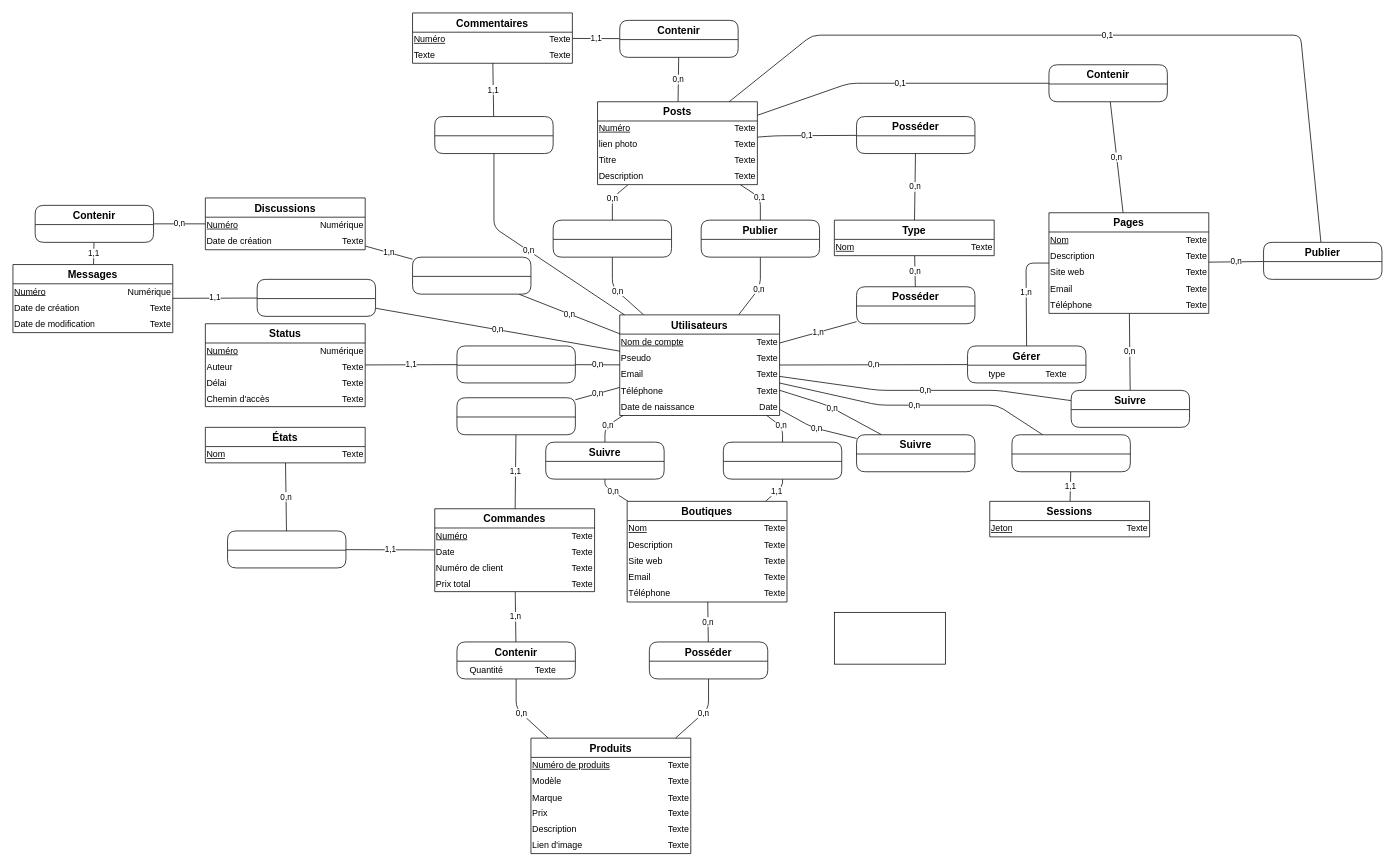
Image size: 1395x867. Some labels were removed from this diagram. Each missing label, with the centre of its shape:
Aimer: the point at 612,238
Auteur: Benjamin Fontana Projet: Réseau social Version: 1.0 Date: 18.11.2020: the point at 889,638
Avoir: the point at 286,549
Créer: the point at 782,460
Effectuer: the point at 515,416
Entretenir: the point at 471,275
Ouvrir: the point at 1070,453
Poster: the point at 515,364
Écrire: the point at 493,135
Écrit: the point at 316,297
